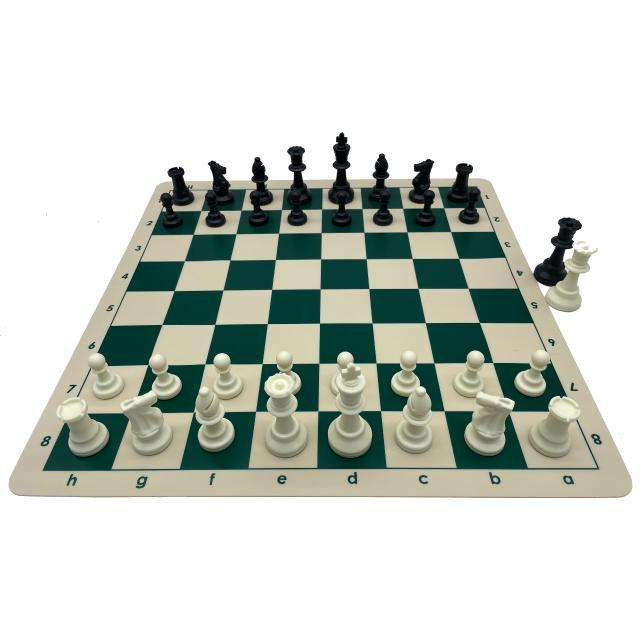chess-table-corners: (579, 452, 611, 482), (29, 454, 60, 484), (471, 182, 479, 189), (165, 186, 172, 193)
